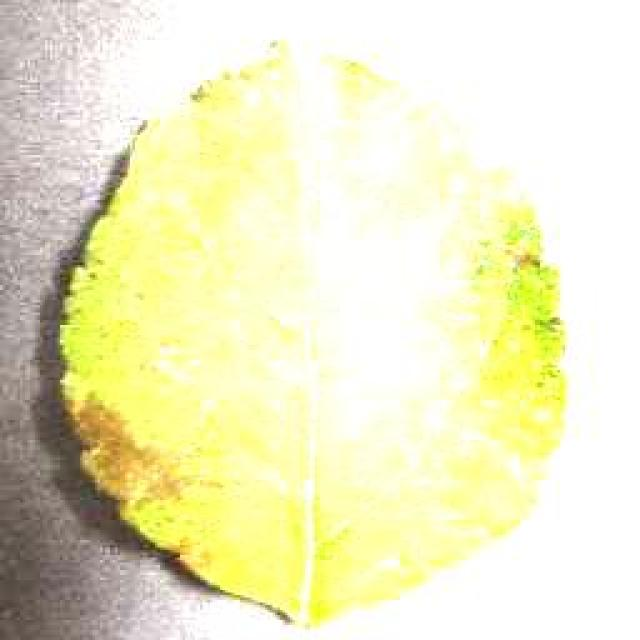apple scab disease: (48, 35, 570, 627)
